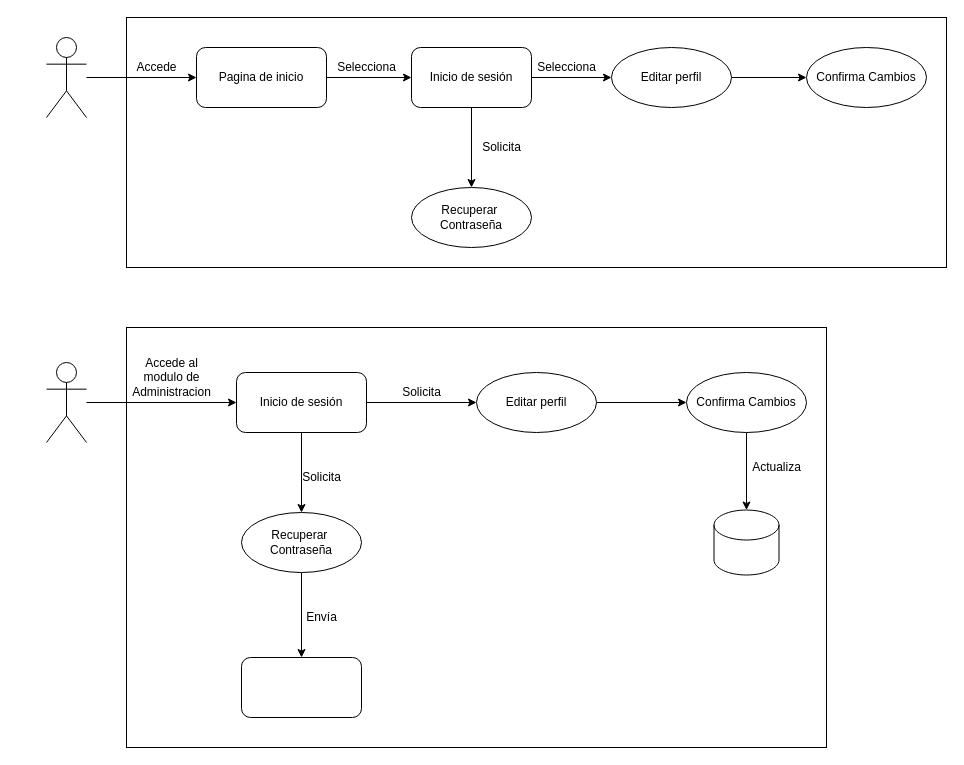
This 964x765 diagram has some shape labels left out. Here are the shapes that lost their labels. From the top down, the box of each, then its label:
(46, 36, 86, 118): Usuario registrado
(46, 362, 86, 442): Administrador
(713, 509, 779, 575): DB
(240, 656, 362, 718): Email
